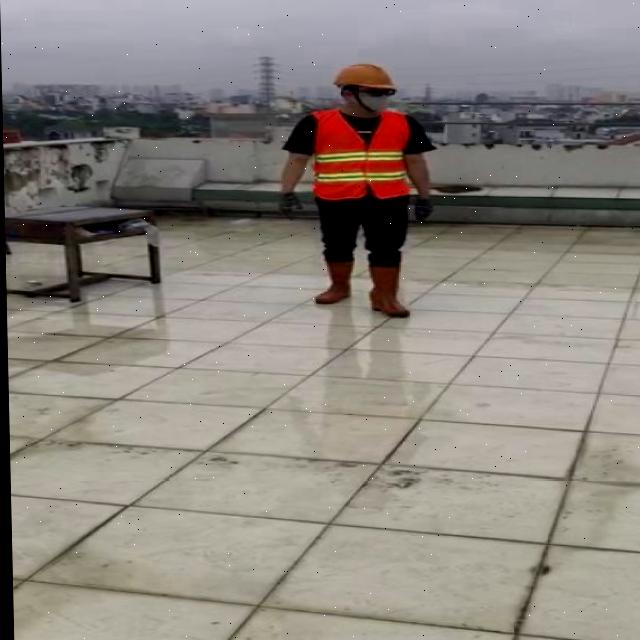Gloves: (279, 191, 303, 214), (414, 195, 433, 220)
Helmet: (333, 63, 398, 94)
Safety-Boot: (368, 260, 408, 317), (313, 258, 355, 304)
Safety-Vest: (311, 108, 412, 202)
